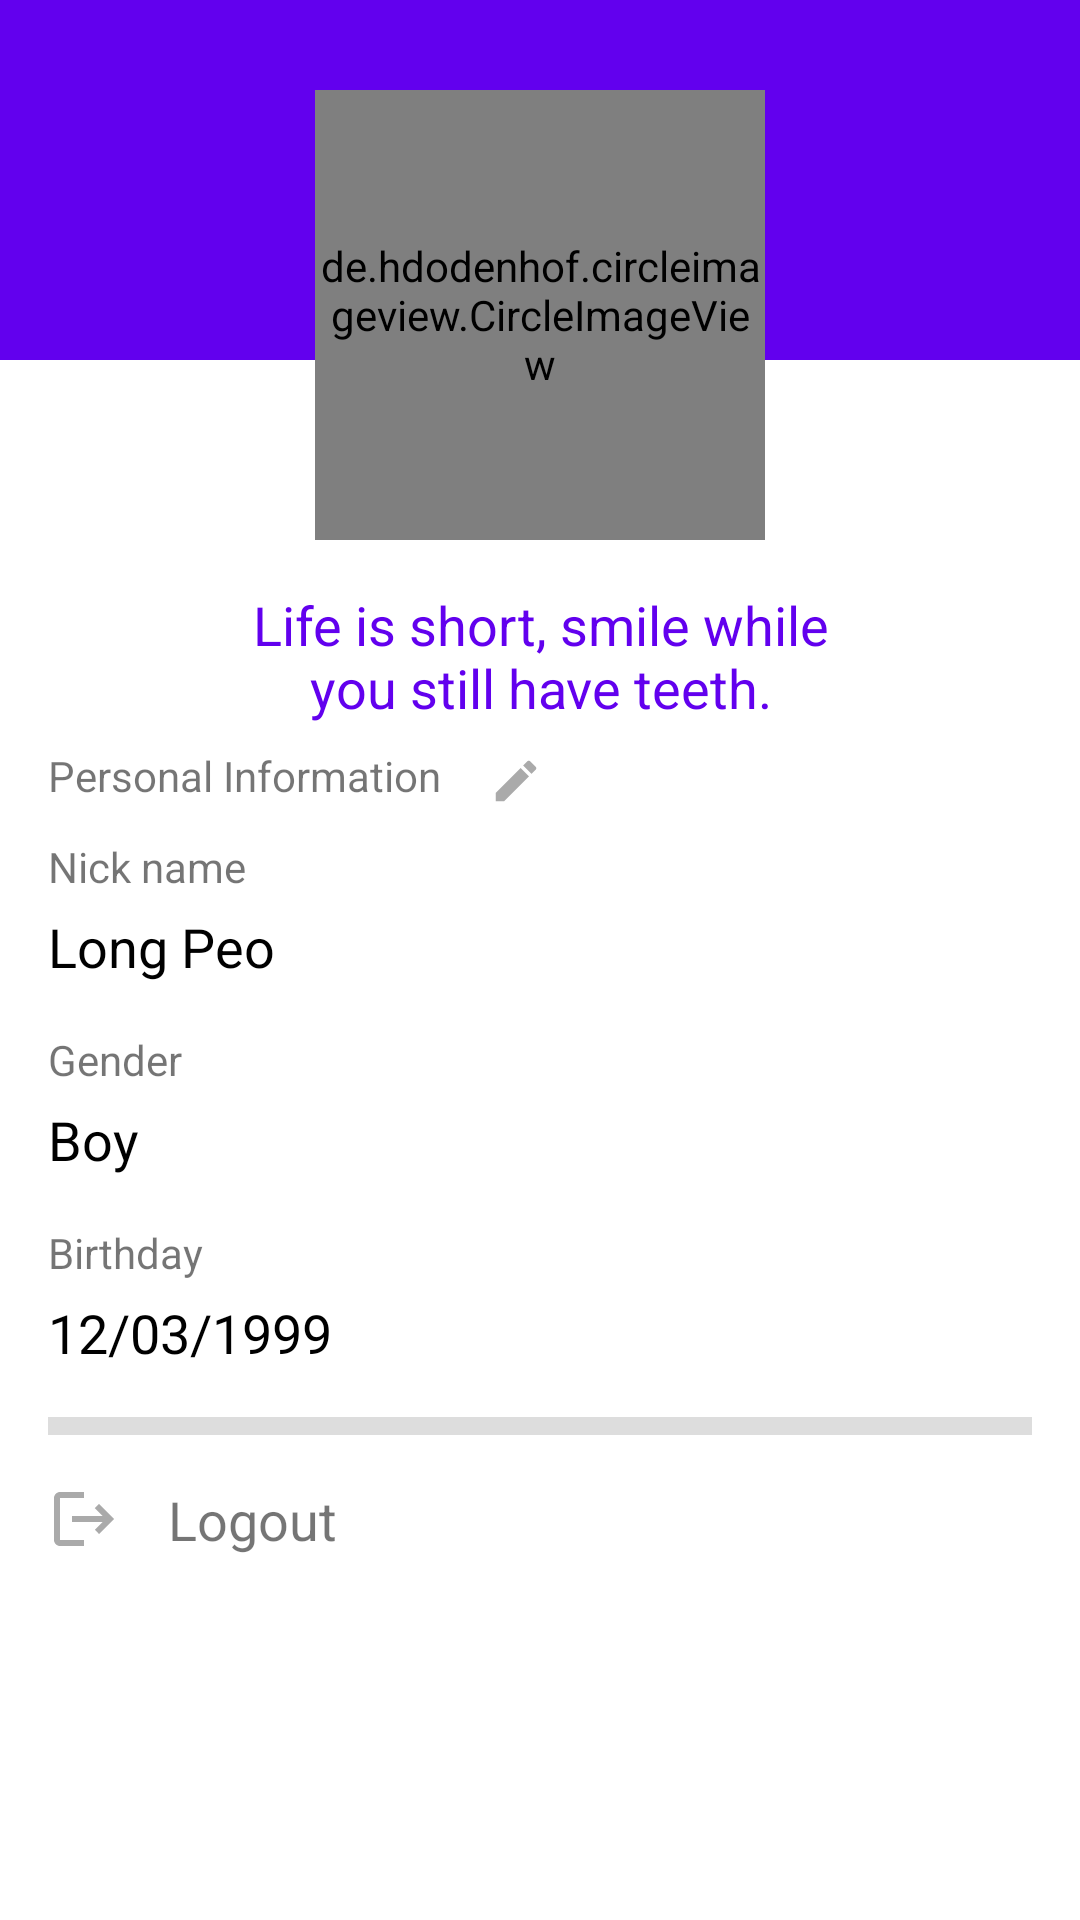

Icon click points for this 1080w x 1920h phone screenshot, format (x=x, y=y):
edit: (x=516, y=781)
